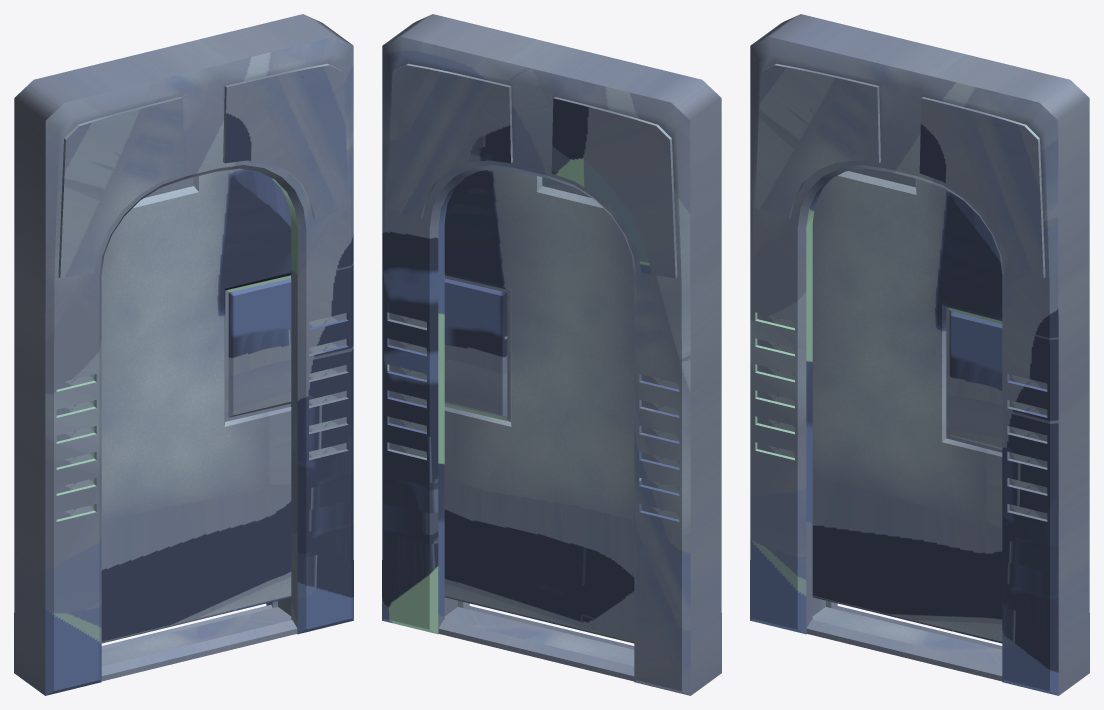
The model's file is SM_Future_door_Frame.fbx.
3 views of the same model, side by side, from view 1: azimuth 30°, elevation 25°; view 2: azimuth 150°, elevation 25°; view 3: azimuth 330°, elevation 25° (orthographic).
Parts seen in each view (by area): view 1: SM_Future_door_Frame, SM_Future_Door; view 2: SM_Future_door_Frame, SM_Future_Door; view 3: SM_Future_door_Frame, SM_Future_Door.
Boxes of the visible parts, x1,y1,x2,y2 form: SM_Future_door_Frame: (14,14,353,695); SM_Future_Door: (101,168,291,643); SM_Future_door_Frame: (382,14,721,695); SM_Future_Door: (444,168,634,643); SM_Future_door_Frame: (750,14,1089,695); SM_Future_Door: (812,168,1002,643).
Bounding box in the file's own units: 1.26 × 2.29 × 0.2913.
